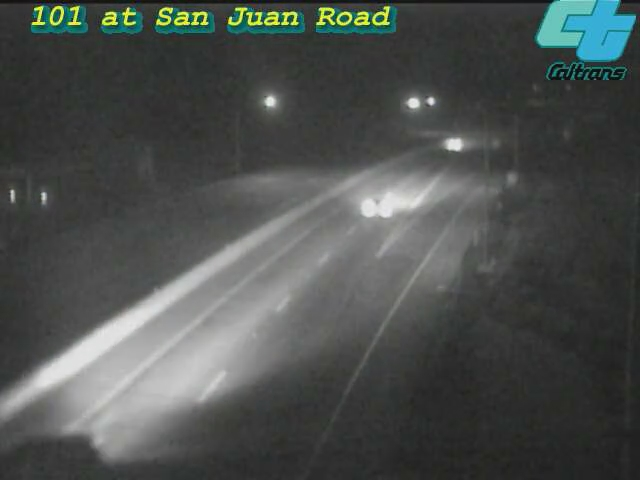vehicle: (1, 407, 109, 480), (341, 165, 421, 245), (434, 116, 484, 166)
